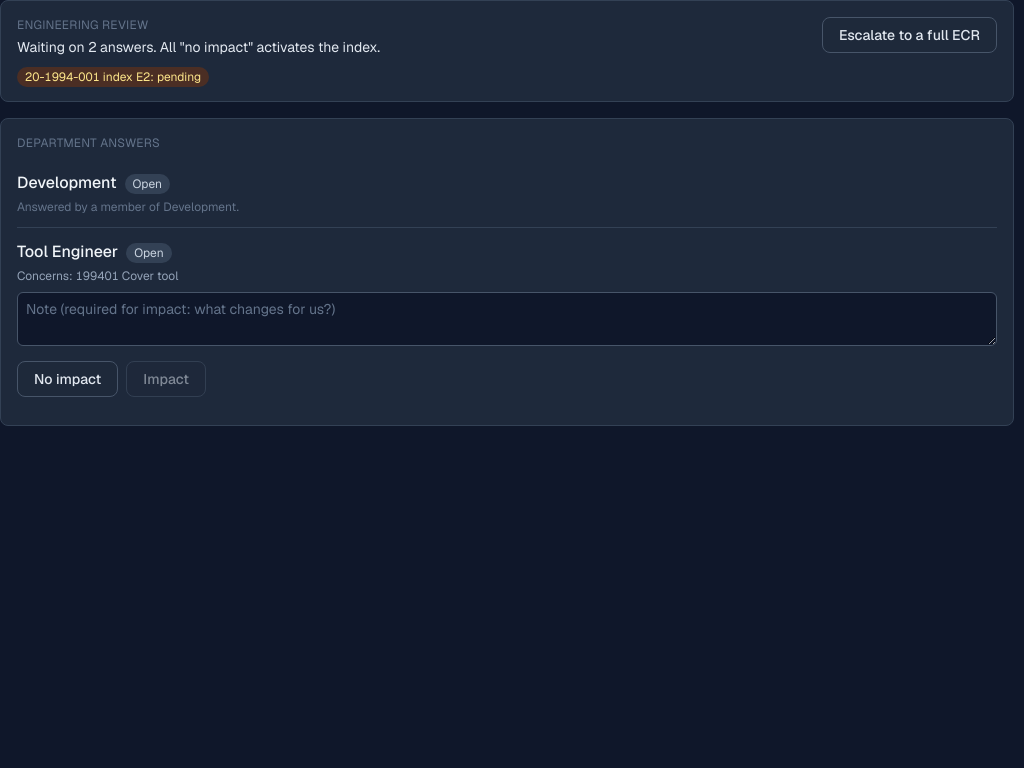
ReviewTab › needs a note to escalate without a reported impact
This screenshot has width=1024, height=768.
Click the button with test id "review-escalate" at [909, 35], box top-left (822, 17), bottom-right (997, 53)
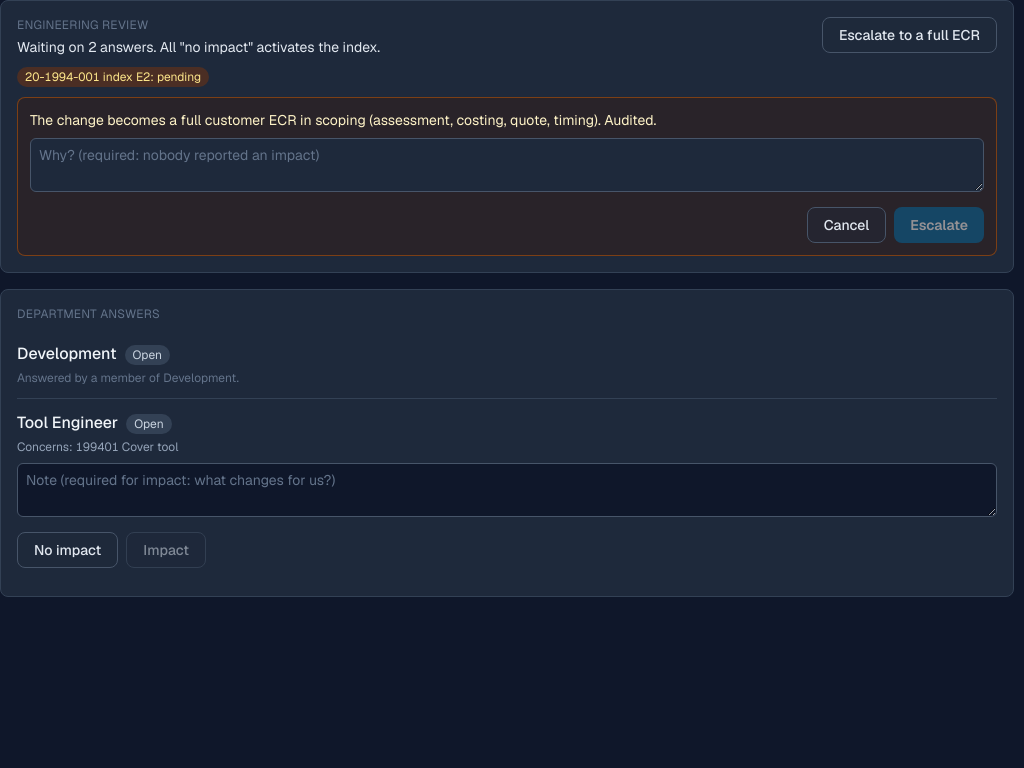
Check: the button with test id "escalate-confirm" is disabled, box top-left (894, 207), bottom-right (984, 243)
Type "customer wants a quote" into the text box named "Why escalate" at [507, 165], box top-left (30, 138), bottom-right (984, 192)
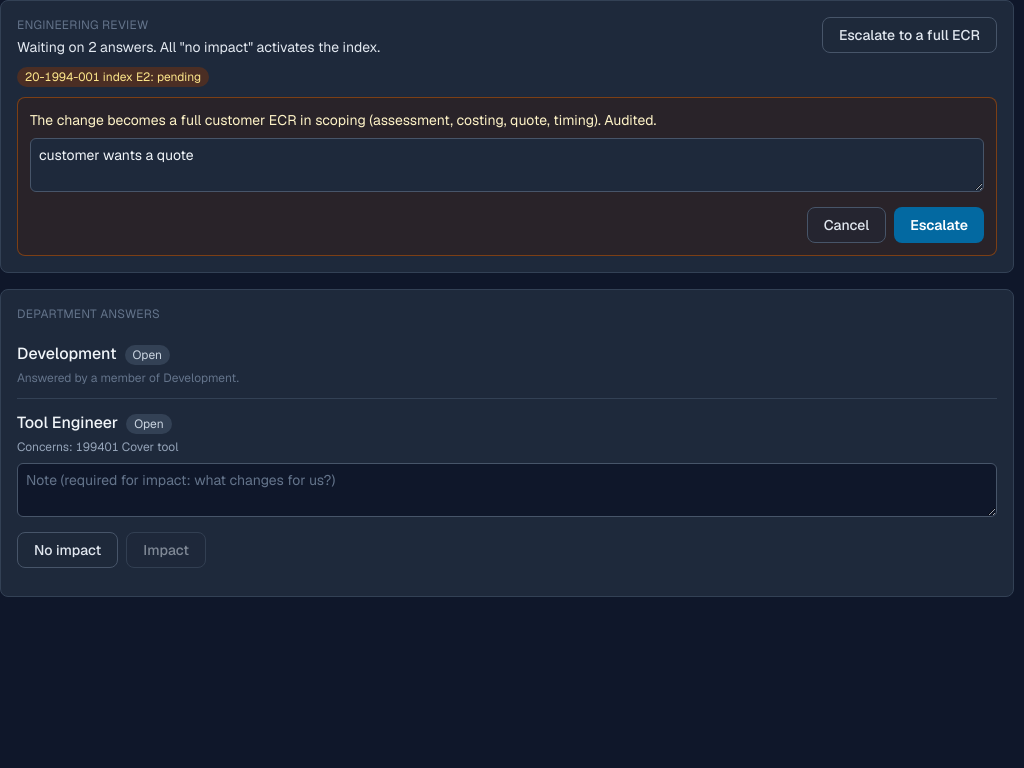
Check: the button with test id "escalate-confirm" is enabled, box top-left (894, 207), bottom-right (984, 243)
